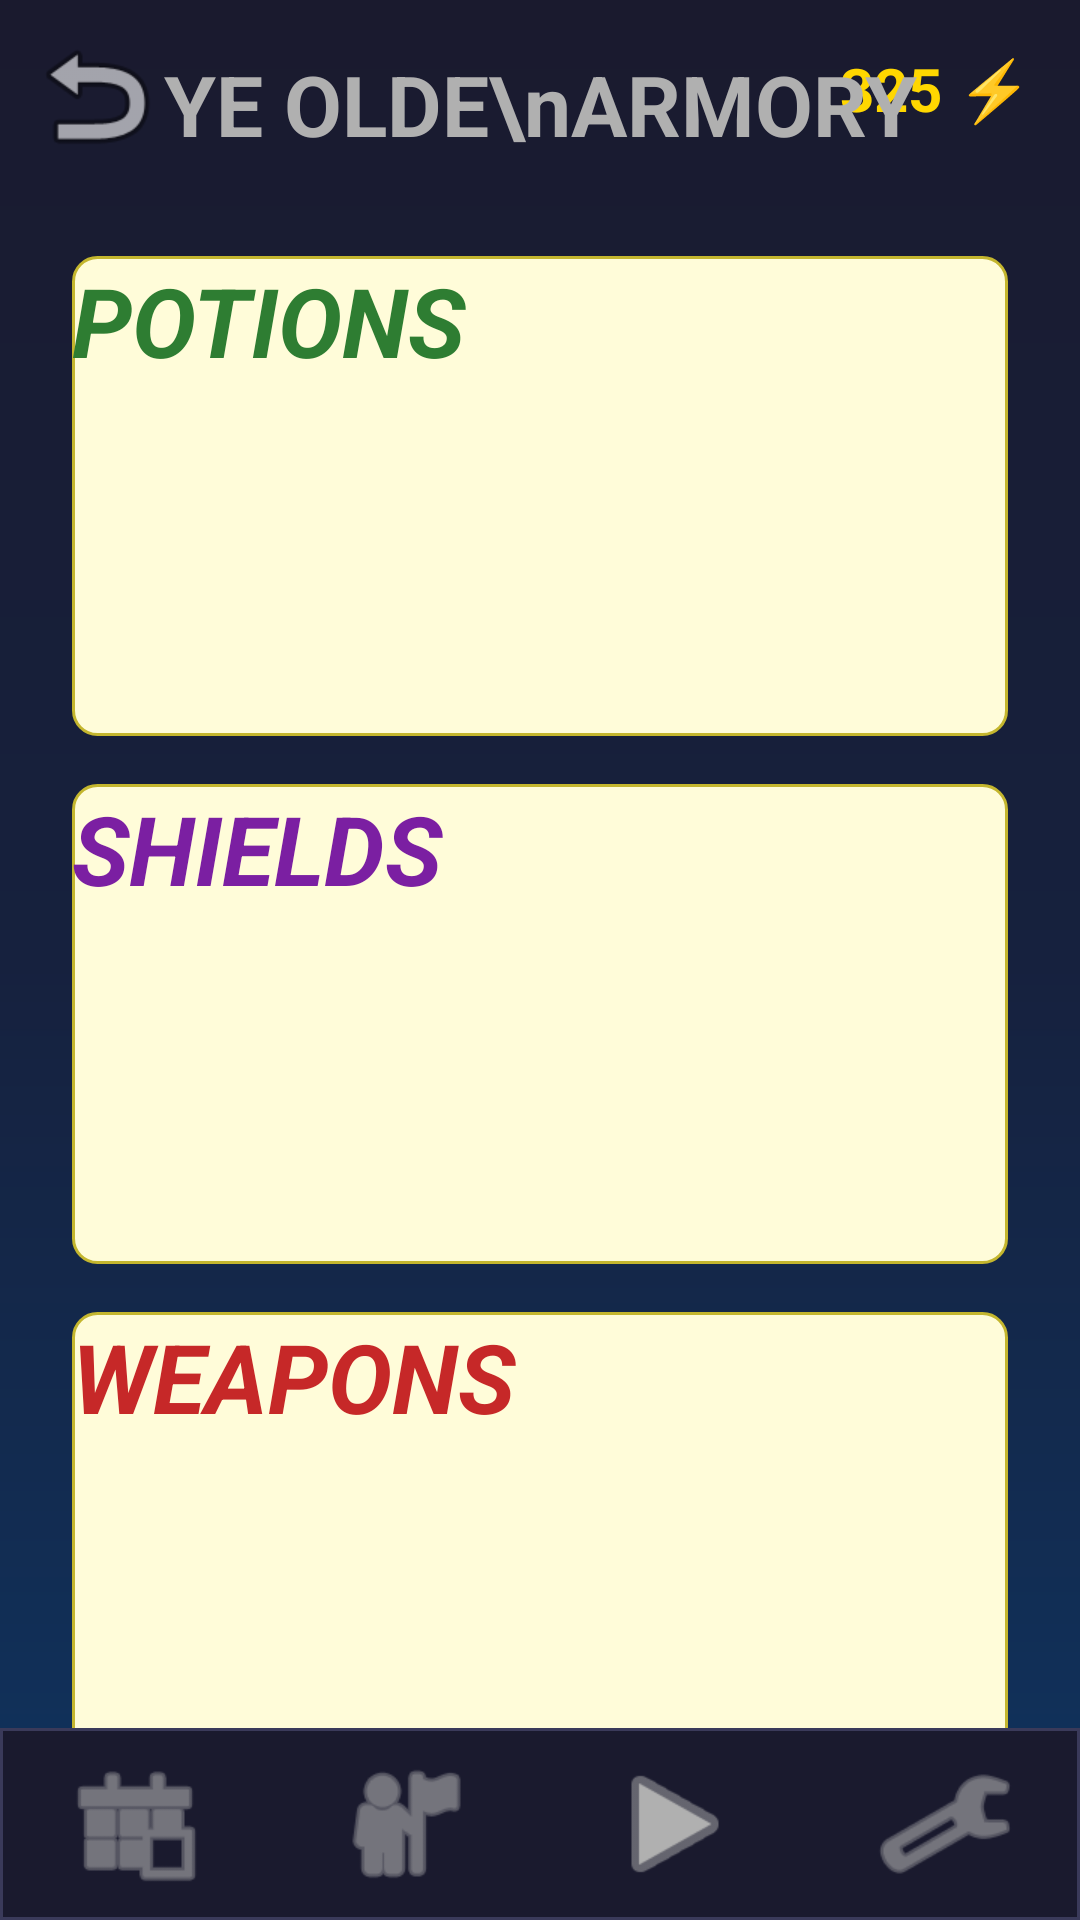

Named icons in this screenshot (1080w x 1920h) and their bounding boxes, bbox=(x1, y1, x2, y2):
Back: bbox=(51, 54, 145, 141)
Character: bbox=(353, 1771, 460, 1877)
Settings: bbox=(880, 1775, 1010, 1873)
